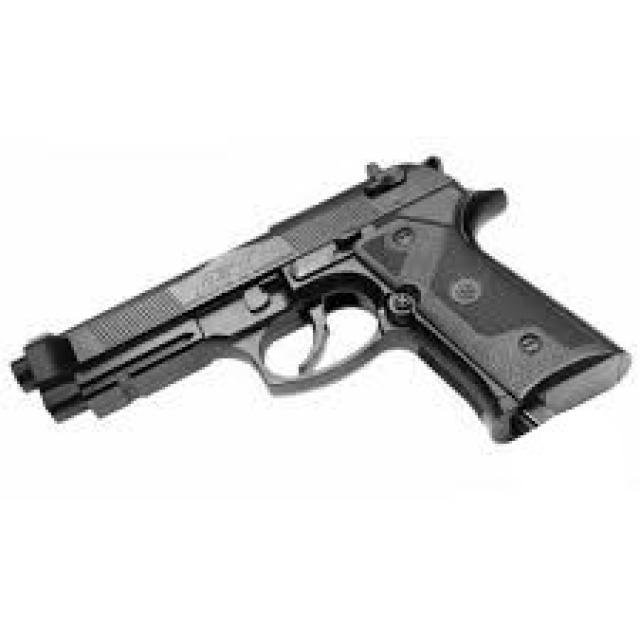pistol: (8, 152, 640, 456)
